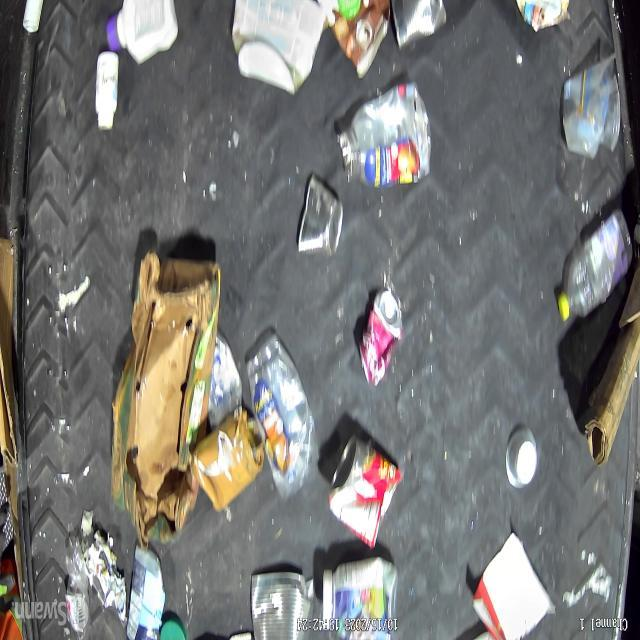can: (327, 434, 403, 550), (189, 404, 265, 512), (358, 288, 403, 386), (249, 569, 307, 640), (297, 175, 343, 260), (390, 0, 448, 54)
plastic_bottle: (338, 82, 432, 185), (556, 207, 634, 326), (64, 537, 89, 640)
